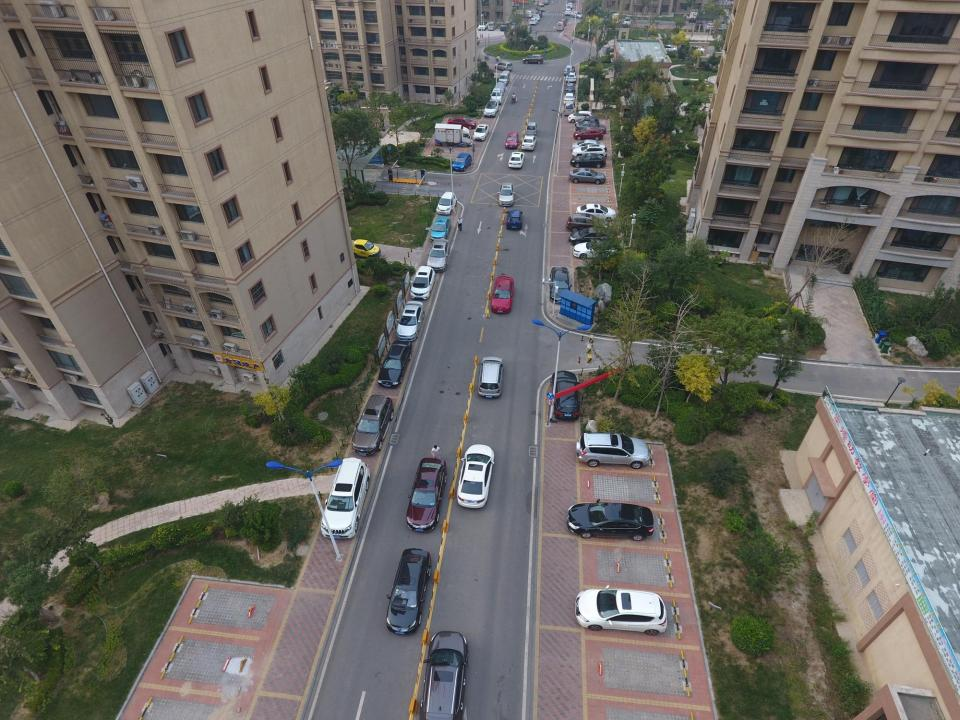car: (573, 583, 669, 636), (420, 630, 469, 720), (386, 546, 434, 636), (564, 496, 654, 542), (319, 458, 367, 540), (405, 458, 447, 532), (351, 394, 394, 456), (456, 442, 496, 508), (575, 433, 649, 467), (378, 340, 413, 388), (550, 370, 580, 421), (394, 300, 424, 342), (479, 356, 503, 398), (572, 239, 620, 260), (490, 274, 515, 314), (568, 226, 619, 245), (548, 266, 572, 304), (408, 266, 435, 299), (566, 212, 610, 232), (426, 239, 450, 273), (575, 203, 616, 222), (568, 166, 606, 184), (352, 239, 382, 260), (429, 215, 451, 242), (570, 152, 606, 167), (435, 191, 456, 216), (572, 144, 607, 158), (497, 182, 515, 206), (452, 151, 472, 172), (575, 121, 607, 134), (570, 139, 604, 151), (573, 127, 604, 140), (505, 209, 524, 230), (448, 116, 476, 130), (567, 110, 594, 124), (507, 151, 525, 169), (472, 124, 489, 141), (482, 100, 499, 117), (575, 116, 600, 127), (520, 135, 536, 151), (494, 60, 514, 72), (505, 131, 519, 148), (606, 45, 629, 55), (490, 88, 503, 105), (522, 54, 544, 64), (684, 44, 706, 54), (493, 81, 506, 96), (563, 82, 576, 94), (565, 72, 578, 84), (660, 44, 678, 52), (563, 93, 576, 104), (563, 65, 575, 75), (570, 11, 583, 19), (522, 24, 532, 34), (478, 21, 488, 30), (500, 22, 509, 31), (716, 23, 725, 31), (623, 17, 632, 25), (706, 22, 714, 30), (529, 18, 538, 25), (533, 14, 540, 21), (525, 11, 533, 17), (535, 11, 543, 17), (564, 9, 572, 15), (567, 2, 573, 8)
truck: (434, 122, 473, 148)
van: (525, 122, 538, 136), (499, 70, 510, 86), (564, 100, 574, 115), (556, 21, 564, 31), (488, 21, 496, 30), (536, 3, 544, 11)
